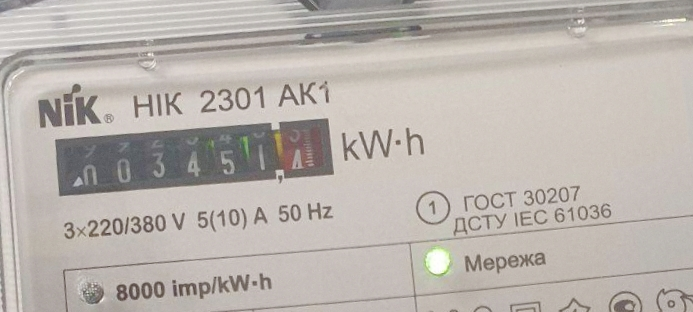0: (111, 155, 134, 185), (77, 159, 100, 188)
1: (251, 140, 270, 172)
3: (146, 147, 168, 180)
4: (180, 147, 204, 181), (283, 144, 307, 174)
5: (216, 145, 237, 178)
screen: (44, 99, 341, 216)
